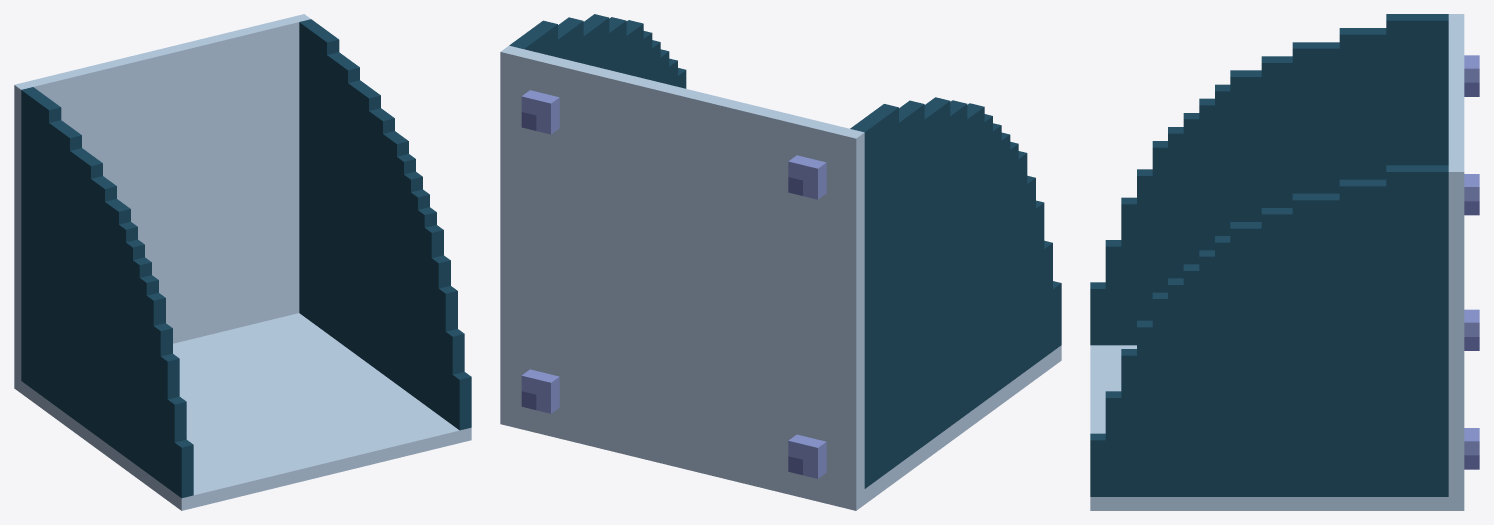
Rendered from QueryCountViewer.fbx.
3 views of the same model, side by side, from view 1: azimuth 30°, elevation 25°; view 2: azimuth 150°, elevation 25°; view 3: azimuth 270°, elevation 25° (orthographic). The views are drawn at different scales.
Visible parts, largest first — view 1: Untitled; view 2: Untitled; view 3: Untitled.
Part boxes in pixels (bbox=[...]): Untitled: bbox=[14, 14, 471, 510]; Untitled: bbox=[500, 14, 1061, 510]; Untitled: bbox=[1090, 14, 1479, 510].
Bounding box in the file's own units: 240 × 240 × 250.
Materials: 1 (1 with a texture image).
